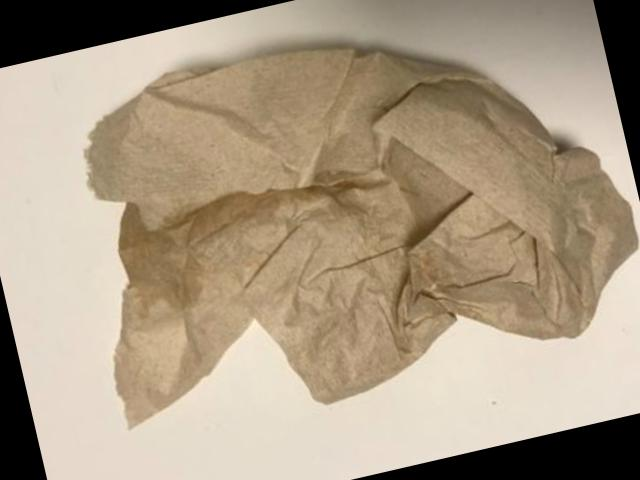cardboard paper: (85, 51, 635, 428)
